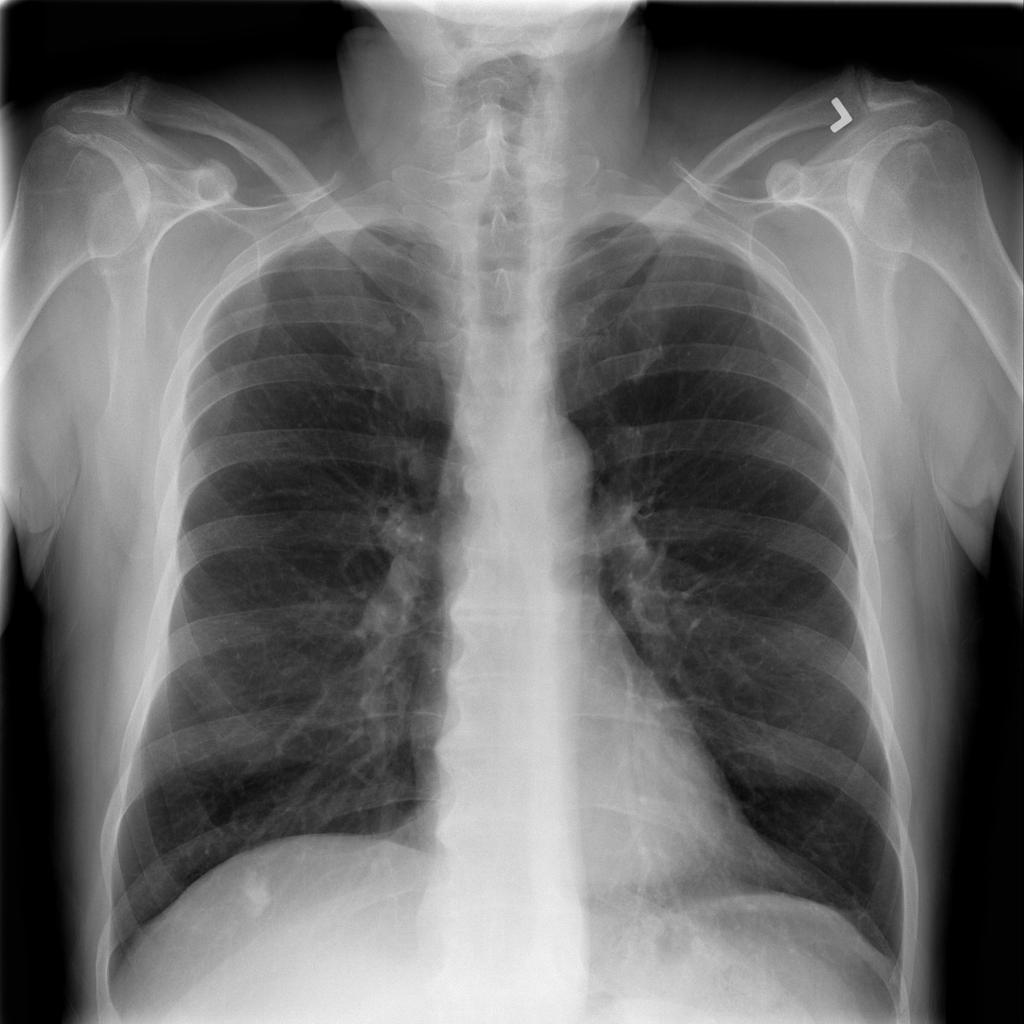nodule: (223, 850, 291, 931)
